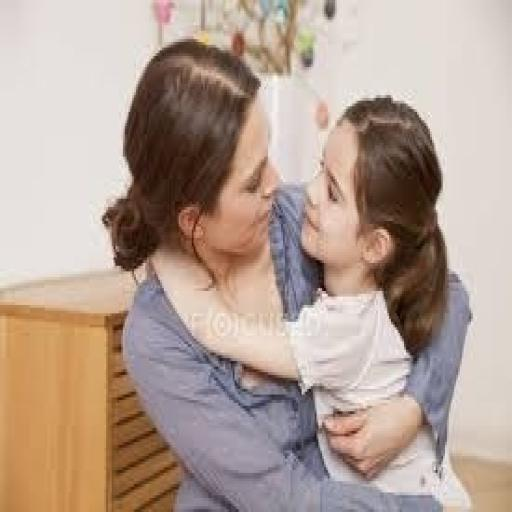hugging: (101, 36, 469, 510)
